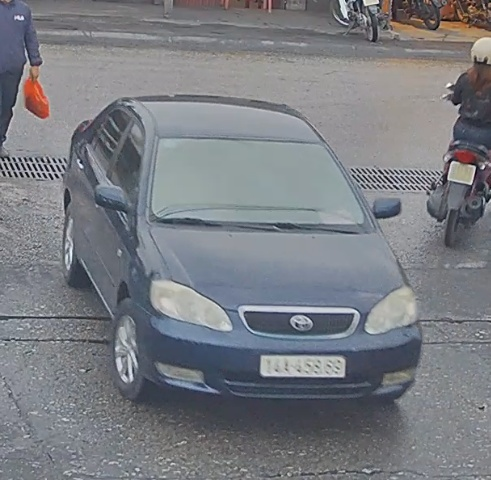vehicle plate: (258, 351, 347, 379)
